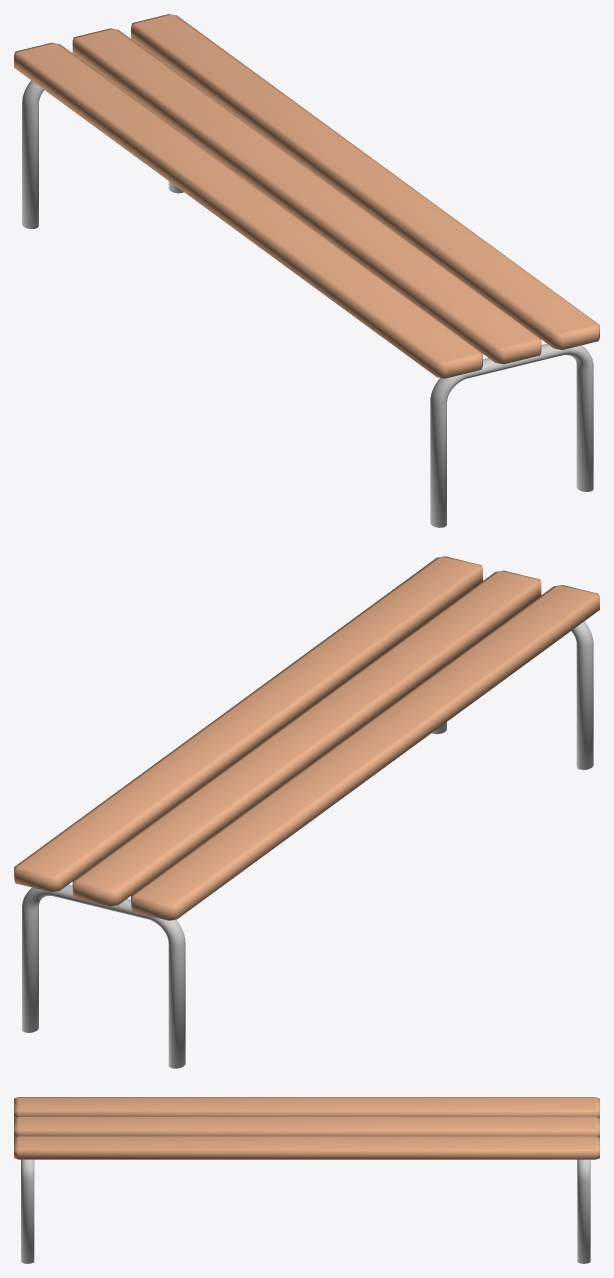
The model's file is banc.fbx.
3 views of the same model, one above another, from view 1: azimuth 30°, elevation 25°; view 2: azimuth 150°, elevation 25°; view 3: azimuth 270°, elevation 25° (orthographic). The views are drawn at different scales.
Visible parts, largest first — view 1: Banc; view 2: Banc; view 3: Banc.
Boxes of the visible parts, left/top/right/bottom form: Banc: left=14, top=14, right=599, bottom=527; Banc: left=14, top=556, right=599, bottom=1068; Banc: left=14, top=1097, right=599, bottom=1263.
Bounding box in the file's own units: 72.9 × 71.52 × 333.
